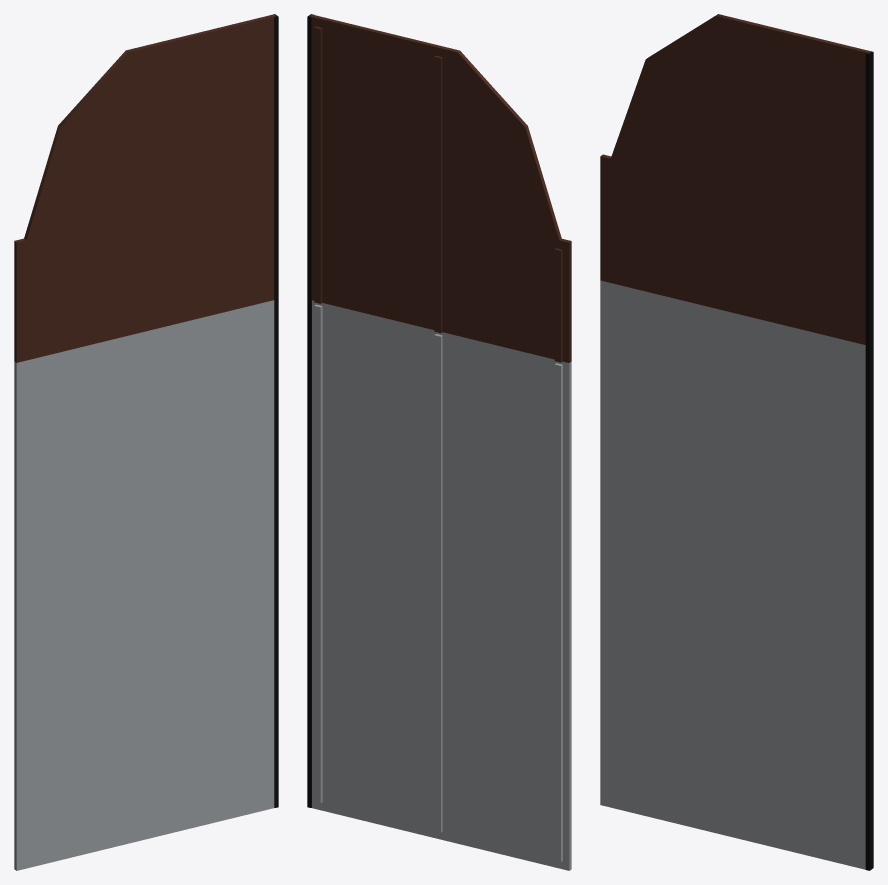
The model's file is door_l_hblx.glb.
The picture shows the model from 3 angles, left to right: view 1: azimuth 30°, elevation 25°; view 2: azimuth 150°, elevation 25°; view 3: azimuth 330°, elevation 25°; orthographic projection. The views are drawn at different scales.
Parts seen in each view (by area): view 1: Door, DoorTop, Rubber; view 2: Door, DoorTop, Rubber; view 3: Door, DoorTop, Rubber.
Part boxes in pixels (box(x1,y1,x2,y2)): Door: box(14, 300, 274, 870); DoorTop: box(14, 14, 276, 362); Rubber: box(274, 14, 278, 807); Door: box(312, 300, 571, 870); DoorTop: box(309, 14, 571, 362); Rubber: box(307, 14, 314, 807); Door: box(600, 280, 865, 869); DoorTop: box(600, 14, 871, 344); Rubber: box(865, 51, 873, 870).
Bounding box in the file's own units: 1.59 × 4.61 × 0.05.
